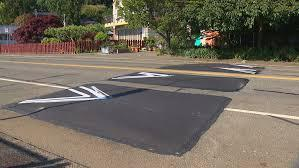Bump: (7, 81, 232, 155), (106, 72, 248, 93), (159, 63, 265, 75)
